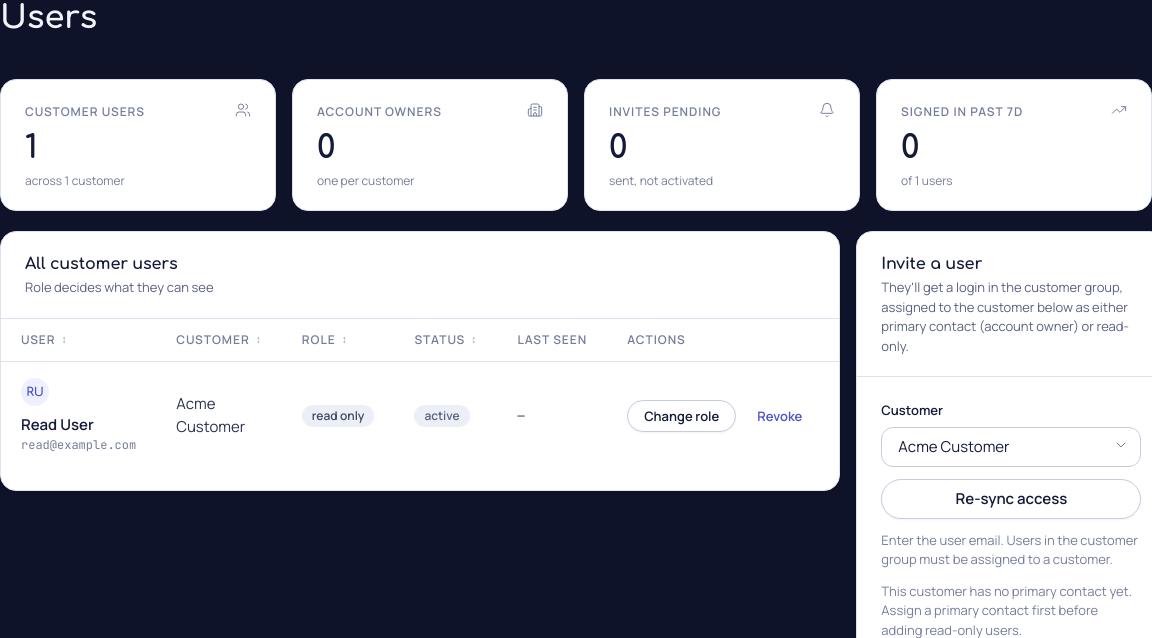
Test case: UsersAdminPage customer access actions › requires confirmation before revoking a customer user from the table row
Expected: the text "Read User" is shown, left=21, top=414, right=94, bottom=435
Click the button with aria-label "Revoke access for Read User" at coordinates (780, 416), box left=740, top=400, right=819, bottom=432
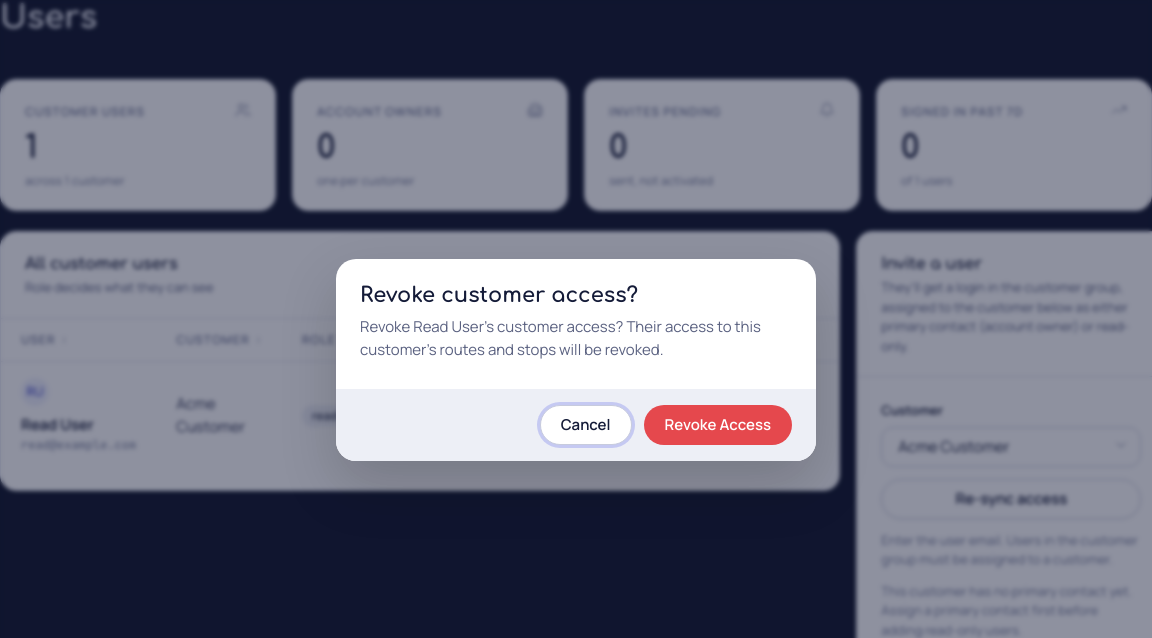
Expected: the dialog "Revoke customer access?" shows "Revoke Read User's customer access?", left=360, top=316, right=761, bottom=360
Note: Cancelling closes the dialog without removing.
Click the button "Cancel" at coordinates (586, 425), box left=540, top=405, right=632, bottom=445
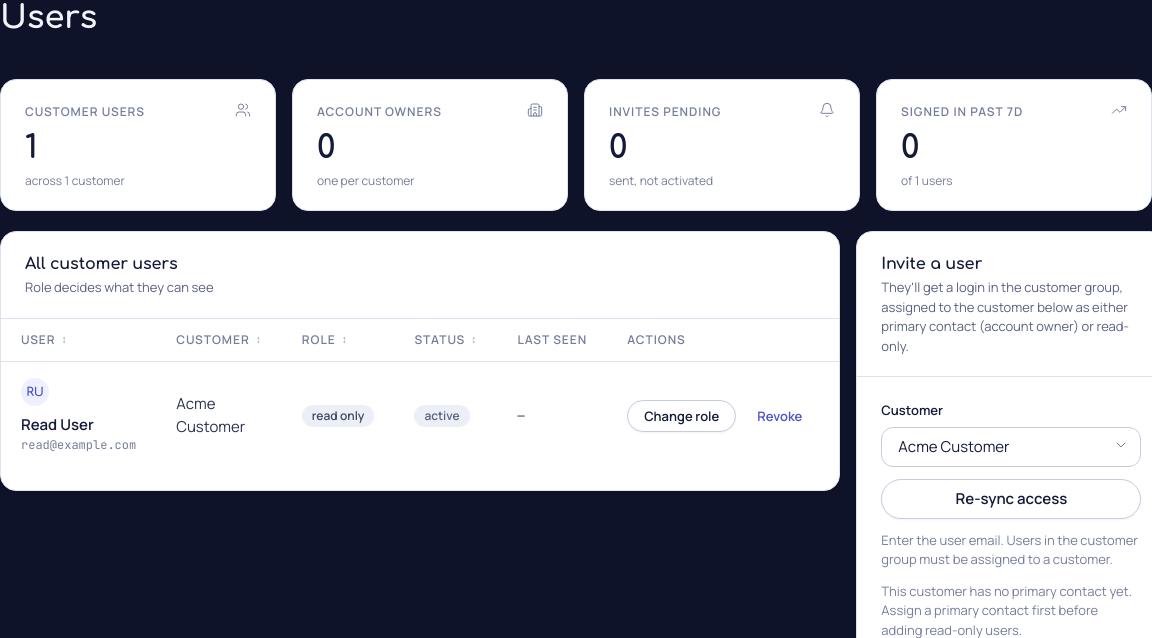
Expected: the dialog is gone
Note: Confirming performs the removal.
Click the button with aria-label "Revoke access for Read User" at coordinates (780, 416), box left=740, top=400, right=819, bottom=432
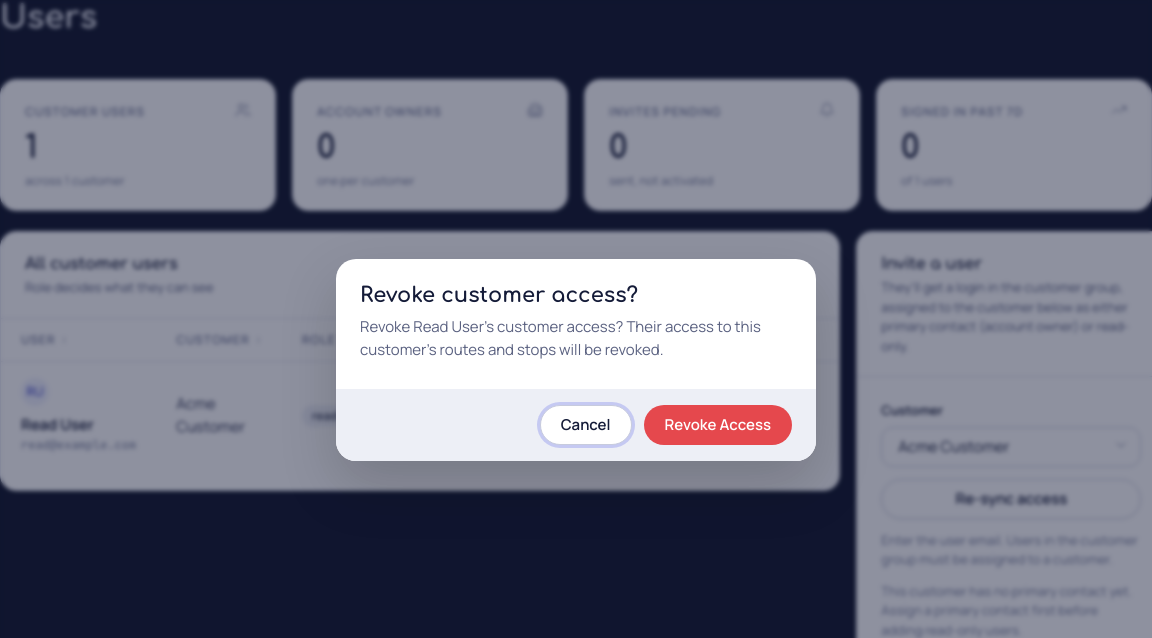
Click the button "Revoke Access" at coordinates (718, 425), box left=644, top=405, right=792, bottom=445
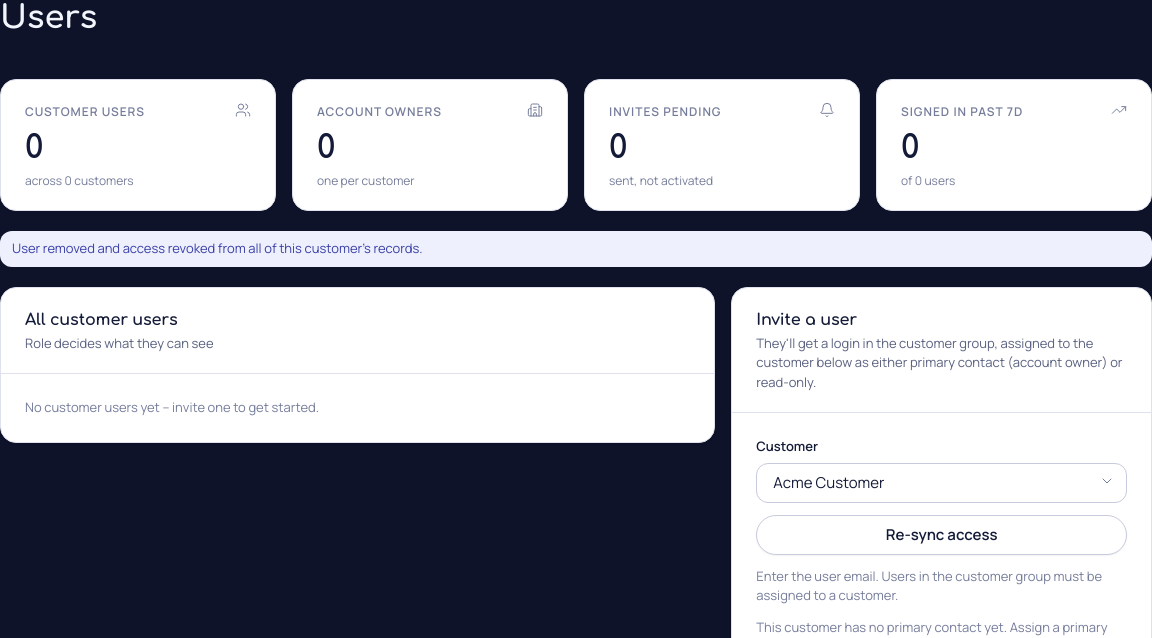
Expected: the dialog is gone
